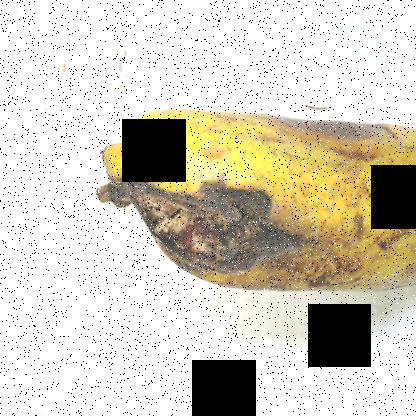ripe: (102, 96, 415, 300)
rotten: (123, 177, 292, 295), (264, 82, 393, 167)
